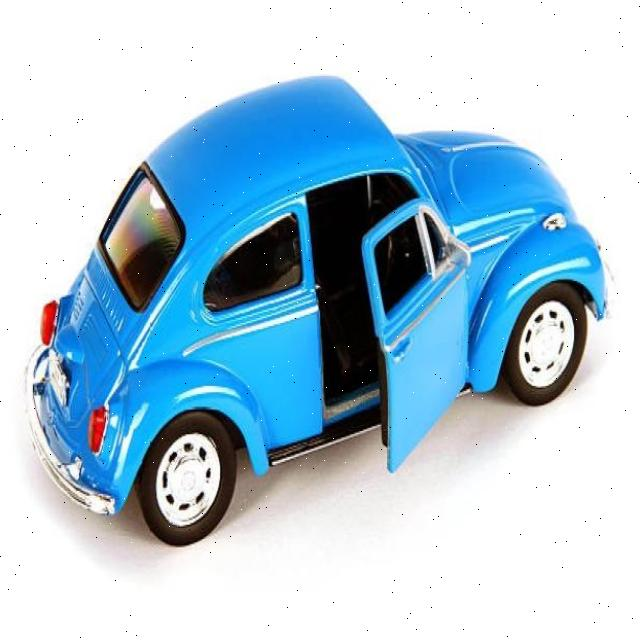car: (29, 78, 602, 540)
